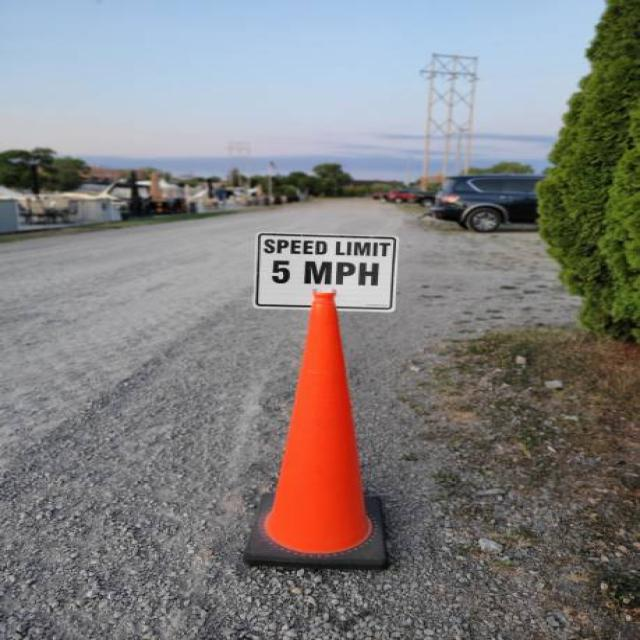Traffic Cone: (207, 282, 439, 586)
